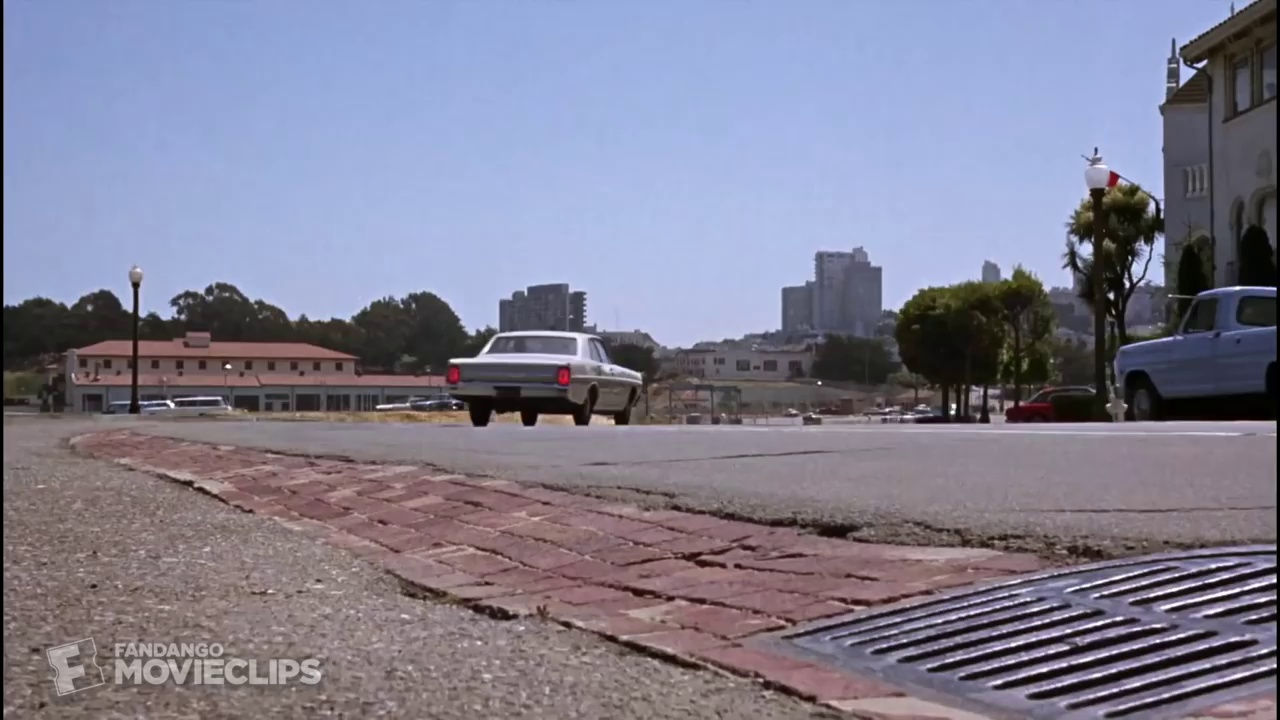car: (435, 317, 660, 434), (994, 377, 1100, 421), (136, 392, 235, 420), (406, 391, 463, 414), (127, 397, 173, 416), (97, 398, 135, 416)
truck: (1103, 280, 1280, 429)
